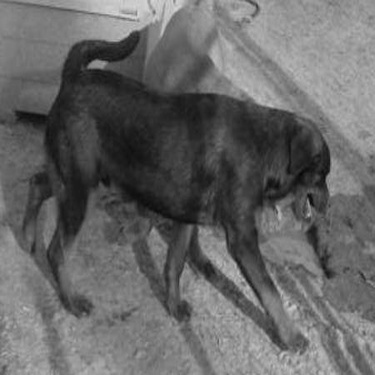dog: (34, 24, 335, 361), (142, 1, 265, 287)
